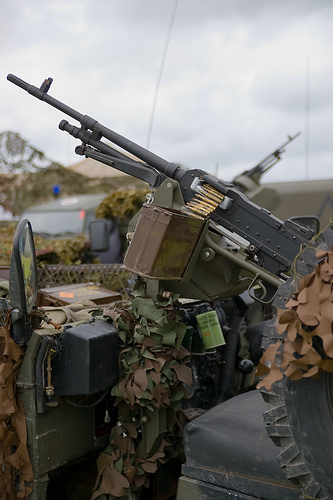rifle: (1, 67, 317, 361)
